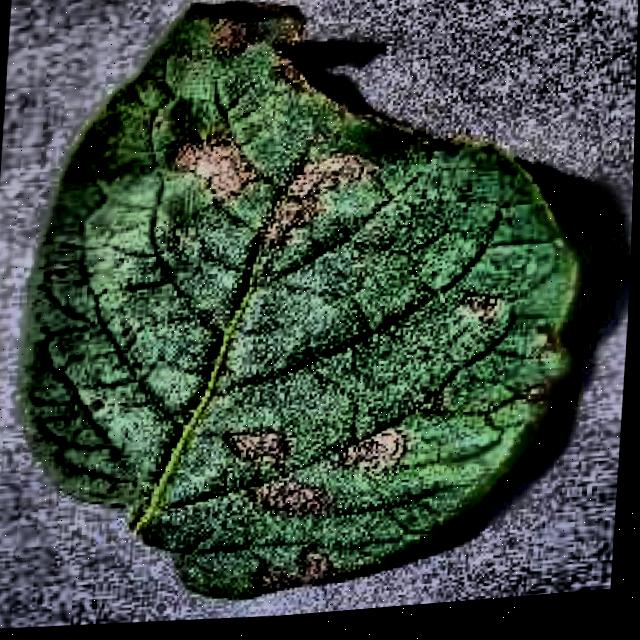Potato_leaf_early_blight: (24, 5, 575, 594)
